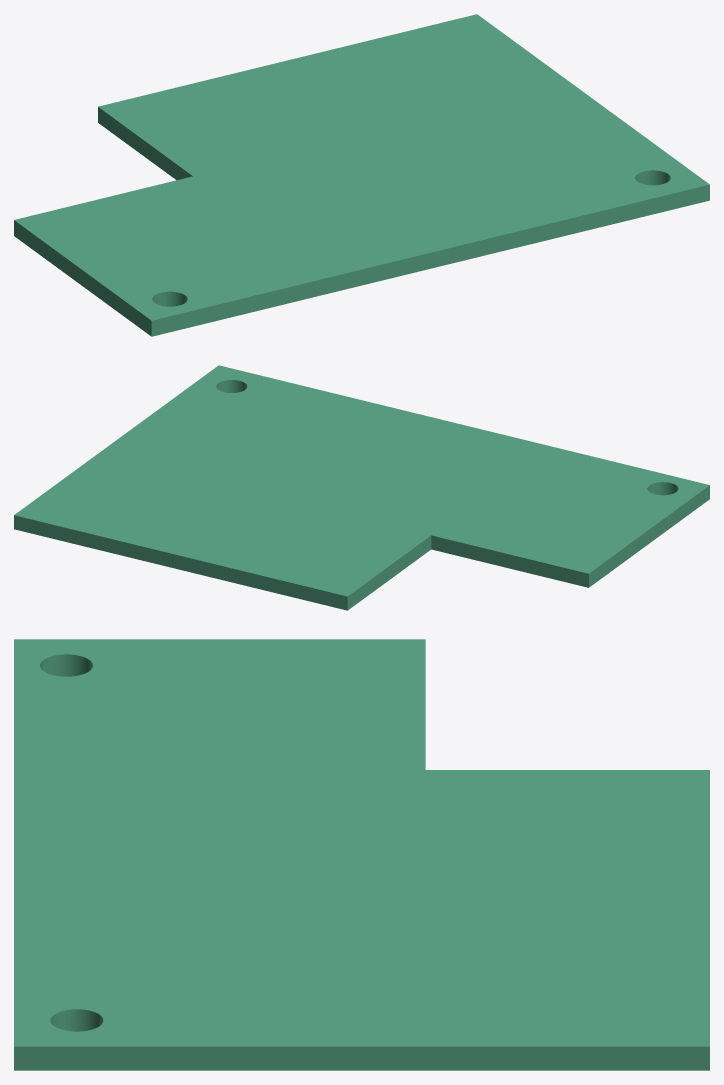
Rendered from board.glb.
The picture shows the model from 3 angles, top to bottom: view 1: azimuth 30°, elevation 25°; view 2: azimuth 150°, elevation 25°; view 3: azimuth 270°, elevation 25°; orthographic projection. The views are drawn at different scales.
Parts seen in each view (by area): view 1: =>[0:1:1:4]; view 2: =>[0:1:1:4]; view 3: =>[0:1:1:4].
Part boxes in pixels (bbox=[...]): =>[0:1:1:4]: bbox=[14, 14, 709, 336]; =>[0:1:1:4]: bbox=[14, 365, 709, 610]; =>[0:1:1:4]: bbox=[14, 639, 709, 1070].
Bounding box in the file's own units: 0.0583 × 0.0016 × 0.0421.
